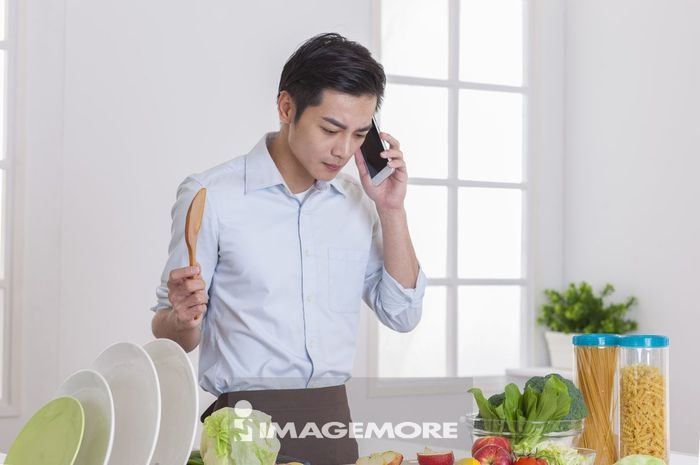phone: (366, 121, 397, 185)
talk: (312, 104, 409, 211)
